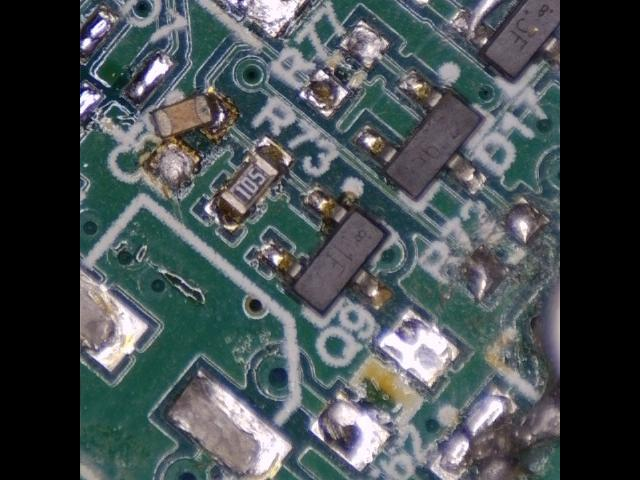Incorrect_installation: (143, 86, 242, 193)
Short_circuit: (440, 378, 561, 480), (453, 1, 506, 49)
